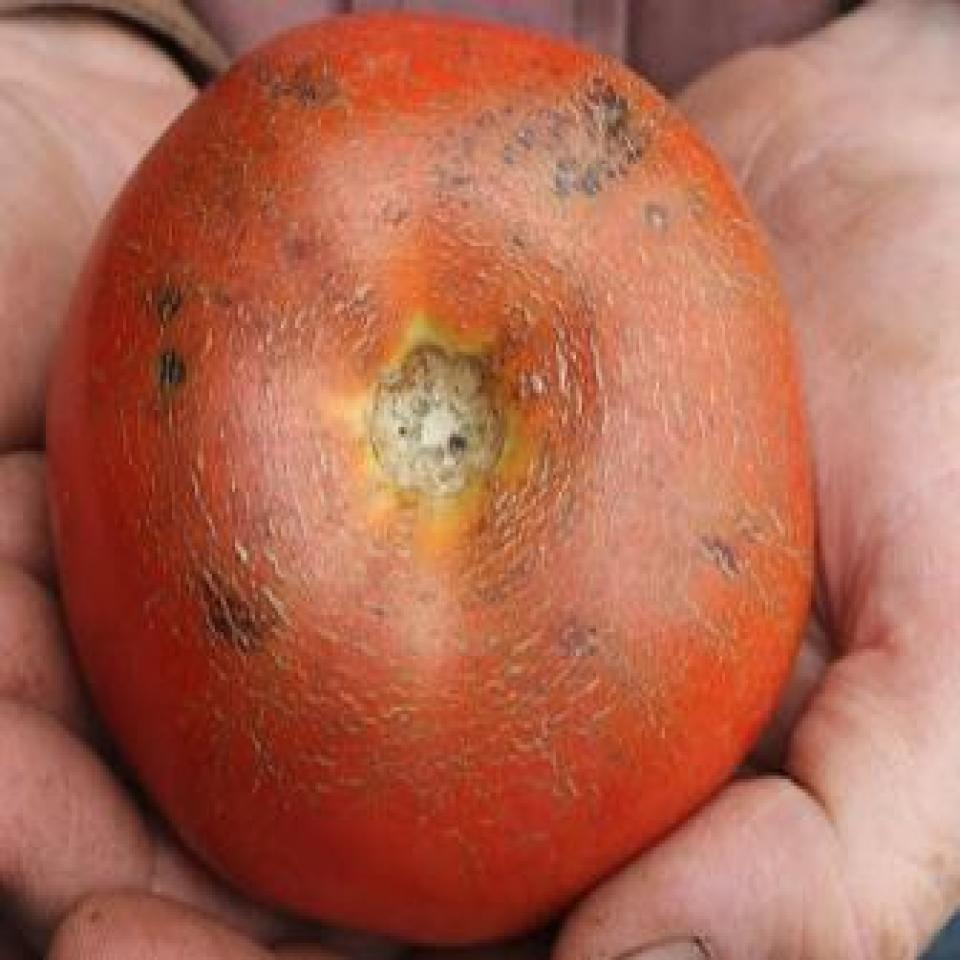Cracking: (89, 38, 800, 834)
